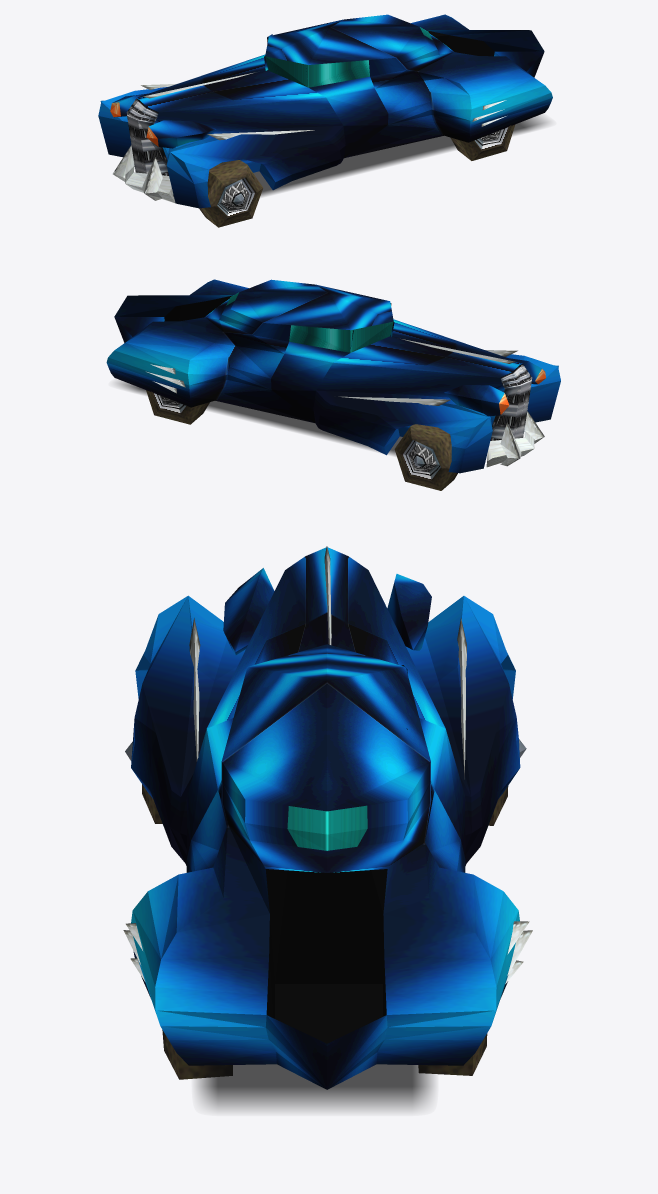
The model's file is limosine_1_new [Copy 1]_2825.glb.
The picture shows the model from 3 angles, top to bottom: view 1: azimuth 30°, elevation 25°; view 2: azimuth 150°, elevation 25°; view 3: azimuth 270°, elevation 25°; orthographic projection. The views are drawn at different scales.
Parts seen in each view (by area): view 1: polySurfaceShape65, polySurfaceShape67, pPlaneShape2, vrlShape, polySurfaceShape66, pSphereShape14, hrlShape, pPlaneShape1, polySurfaceShape43, polySurfaceShape41, pSphereShape12, polySurfaceShape42 (+1 smaller); view 2: polySurfaceShape65, polySurfaceShape68, vrrShape, pPlaneShape2, polySurfaceShape66, pSphereShape12, hrrShape, pPlaneShape1, polySurfaceShape43, polySurfaceShape42, pConeShape2, pConeShape1 (+1 smaller); view 3: polySurfaceShape65, pPlaneShape1, pPlaneShape2, polySurfaceShape67, polySurfaceShape68, pSphereShape14, pSphereShape12, hrlShape.
Boxes of the visible parts, <box> form: polySurfaceShape65: <box>98,14,552,208</box>; polySurfaceShape67: <box>308,60,388,157</box>; pPlaneShape2: <box>253,115,548,196</box>; vrlShape: <box>199,160,262,227</box>; polySurfaceShape66: <box>426,30,543,51</box>; pSphereShape14: <box>146,120,216,148</box>; hrlShape: <box>450,124,515,160</box>; pPlaneShape1: <box>426,30,494,56</box>; polySurfaceShape43: <box>125,163,175,203</box>; polySurfaceShape41: <box>141,157,162,200</box>; pSphereShape12: <box>110,93,147,117</box>; polySurfaceShape42: <box>113,145,134,181</box>; polySurfaceShape65: <box>106,279,560,473</box>; polySurfaceShape68: <box>271,325,350,422</box>; vrrShape: <box>394,424,457,490</box>; pPlaneShape2: <box>116,380,402,455</box>; polySurfaceShape66: <box>114,295,233,316</box>; pSphereShape12: <box>444,385,509,416</box>; hrrShape: <box>146,390,209,424</box>; pPlaneShape1: <box>164,295,232,321</box>; polySurfaceShape43: <box>486,430,534,467</box>; polySurfaceShape42: <box>500,422,521,466</box>; pConeShape2: <box>338,396,450,405</box>; pConeShape1: <box>400,338,515,363</box>; polySurfaceShape65: <box>131,547,520,1089</box>; pPlaneShape1: <box>265,869,387,1043</box>; pPlaneShape2: <box>196,1064,433,1110</box>; polySurfaceShape67: <box>187,718,233,857</box>; polySurfaceShape68: <box>419,718,465,857</box>; pSphereShape14: <box>223,568,274,655</box>; pSphereShape12: <box>387,574,431,650</box>; hrlShape: <box>162,1030,232,1079</box>.
Size of the model in its own units: 1.07 by 0.2553 by 0.3659.
Materials: 45 (31 with a texture image).
